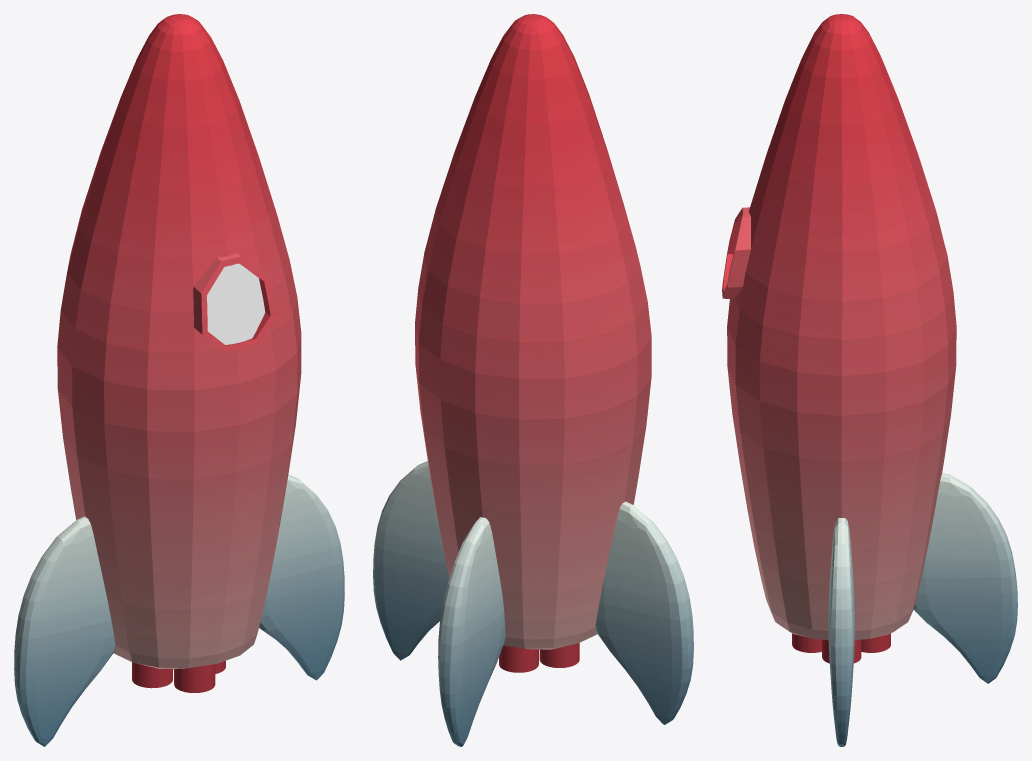
File: Rocket2.0.fbx
The picture shows the model from 3 angles, left to right: view 1: azimuth 30°, elevation 25°; view 2: azimuth 150°, elevation 25°; view 3: azimuth 270°, elevation 25°; orthographic projection. The views are drawn at different scales.
Parts seen in each view (by area): view 1: Cube, Cube.002, Cube.004, Cylinder.003, Cylinder; view 2: Cube, Cube.002, Cube.003, Cylinder.002, Cylinder; view 3: Cube, Cube.003, Cube.002.
Part boxes in pixels (x1,y1,x2,y2): Cube: [57, 14, 301, 669]; Cube.002: [14, 474, 344, 746]; Cube.004: [207, 263, 265, 344]; Cylinder.003: [174, 664, 215, 692]; Cylinder: [132, 662, 172, 688]; Cube: [415, 14, 651, 649]; Cube.002: [373, 461, 693, 724]; Cube.003: [438, 517, 505, 746]; Cylinder.002: [499, 645, 538, 672]; Cylinder: [539, 643, 579, 667]; Cube: [722, 14, 956, 639]; Cube.003: [913, 473, 1017, 683]; Cube.002: [828, 518, 854, 746].
Size of what is drawn, in the model's own units: 144 by 293 by 118.
